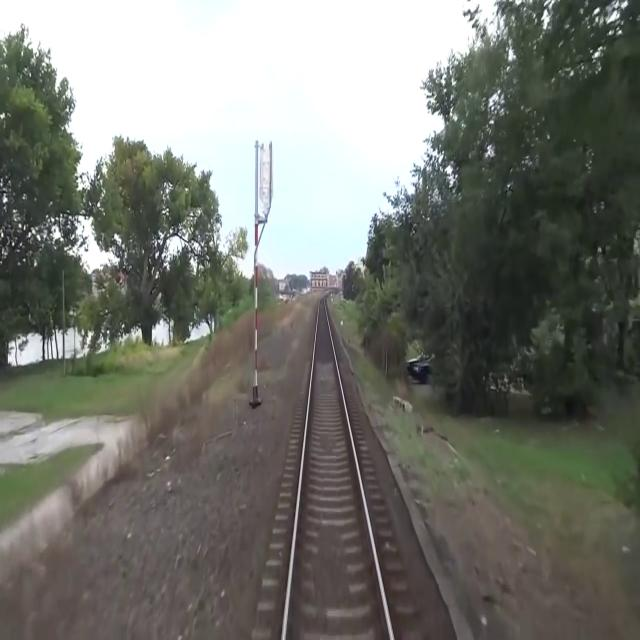rail-track: (286, 297, 389, 639)
